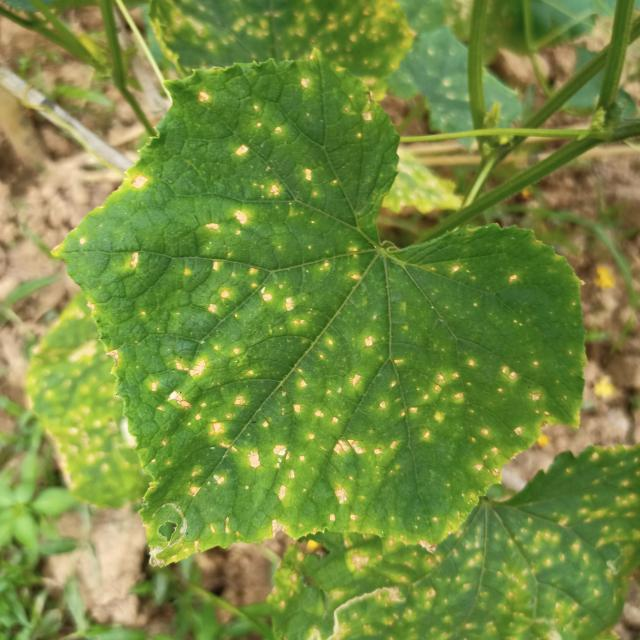disease_cucumber: (80, 250, 573, 544), (187, 67, 389, 247), (124, 172, 155, 204)
